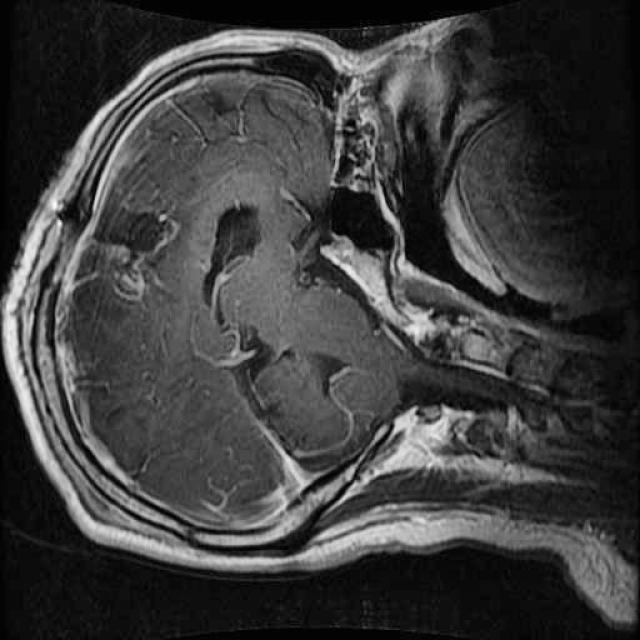Non-Tumor: (55, 169, 186, 321)
